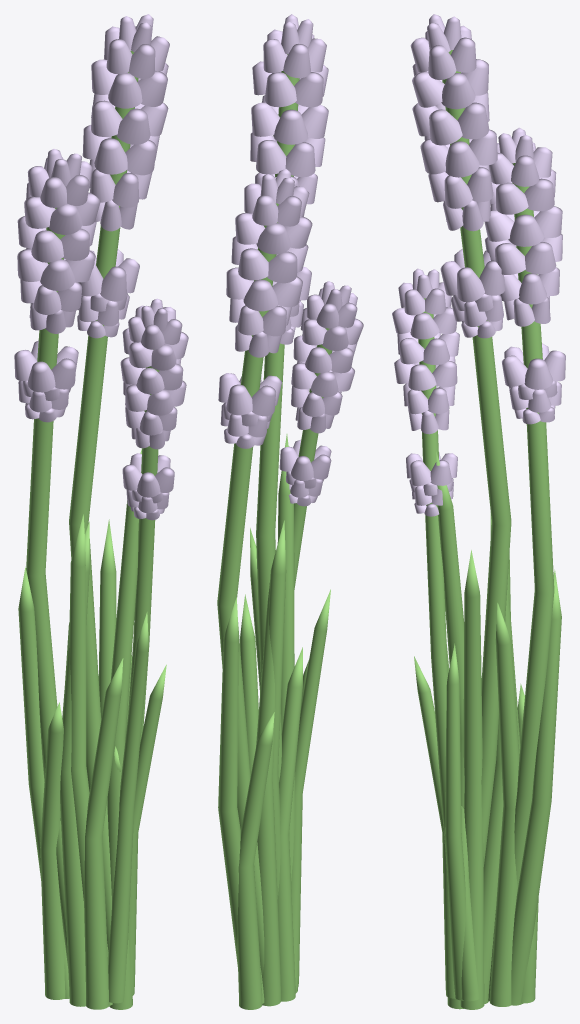
The model's file is lavandeFull.fbx.
3 renders of one model, left to right at view 1: azimuth 90°, elevation 25°; view 2: azimuth 150°, elevation 25°; view 3: azimuth 270°, elevation 25°, orthographic. The views are drawn at different scales.
Parts seen in each view (by area): view 1: pCylinder1 (×3), pCone54 (×3), pCone56 (×2), pCone57 (×2), pCone55 (×2), pCone19 (×3), pCone15 (×3), pCone9 (×3), pCone12 (×3), pCone6 (×2), pCone23 (×2), pCone1 (×3) (+16 smaller); view 2: pCylinder1 (×3), pCone54 (×3), pCone56 (×2), pCone57 (×2), pCone55 (×2), pCone23 (×3), pCone6 (×3), pCone14 (×3), pCone15 (×3), pCone7 (×2), pCone5 (×3), pCone20 (×2) (+17 smaller); view 3: pCylinder1 (×3), pCone55 (×3), pCone57 (×3), pCone54 (×2), pCone56 (×2), pCone13 (×3), pCone8 (×3), pCone20 (×3), pCone7 (×3), pCone3 (×3), pCone25 (×3), pCone34 (×3) (+22 smaller).
Part boxes in pixels (left/top/right/bottom): pCylinder1 (×3): left=26, top=50, right=159, bottom=968; pCone54 (×3): left=60, top=448, right=148, bottom=1009; pCone56 (×2): left=40, top=658, right=123, bottom=1009; pCone57 (×2): left=18, top=514, right=112, bottom=1005; pCone55 (×2): left=98, top=519, right=166, bottom=995; pCone19 (×3): left=40, top=140, right=156, bottom=411; pCone15 (×3): left=31, top=108, right=150, bottom=384; pCone9 (×3): left=48, top=71, right=167, bottom=368; pCone12 (×3): left=60, top=102, right=168, bottom=394; pCone6 (×2): left=24, top=72, right=142, bottom=228; pCone23 (×2): left=17, top=138, right=127, bottom=281; pCone1 (×3): left=65, top=36, right=169, bottom=349; pCylinder1 (×3): left=217, top=54, right=332, bottom=974; pCone54 (×3): left=256, top=434, right=330, bottom=1006; pCone56 (×2): left=237, top=647, right=302, bottom=1009; pCone57 (×2): left=218, top=520, right=286, bottom=1003; pCone55 (×2): left=240, top=528, right=260, bottom=776; pCone23 (×3): left=243, top=142, right=316, bottom=389; pCone6 (×3): left=256, top=72, right=327, bottom=345; pCone14 (×3): left=238, top=109, right=316, bottom=361; pCone15 (×3): left=267, top=105, right=331, bottom=373; pCone7 (×2): left=235, top=72, right=296, bottom=244; pCone5 (×3): left=277, top=38, right=338, bottom=328; pCone20 (×2): left=226, top=140, right=286, bottom=299; pCylinder1 (×3): left=418, top=50, right=554, bottom=888; pCone55 (×3): left=414, top=550, right=519, bottom=1009; pCone57 (×3): left=445, top=553, right=561, bottom=1005; pCone54 (×2): left=436, top=451, right=520, bottom=1009; pCone56 (×2): left=461, top=683, right=538, bottom=1003; pCone13 (×3): left=399, top=102, right=544, bottom=364; pCone8 (×3): left=392, top=73, right=528, bottom=333; pCone20 (×3): left=408, top=129, right=556, bottom=390; pCone7 (×3): left=410, top=59, right=554, bottom=339; pCone3 (×3): left=404, top=37, right=539, bottom=315; pCone25 (×3): left=407, top=167, right=547, bottom=414; pCone34 (×3): left=410, top=260, right=553, bottom=486.
Bounding box in the file's own units: 1.15 × 11.85 × 1.89.
